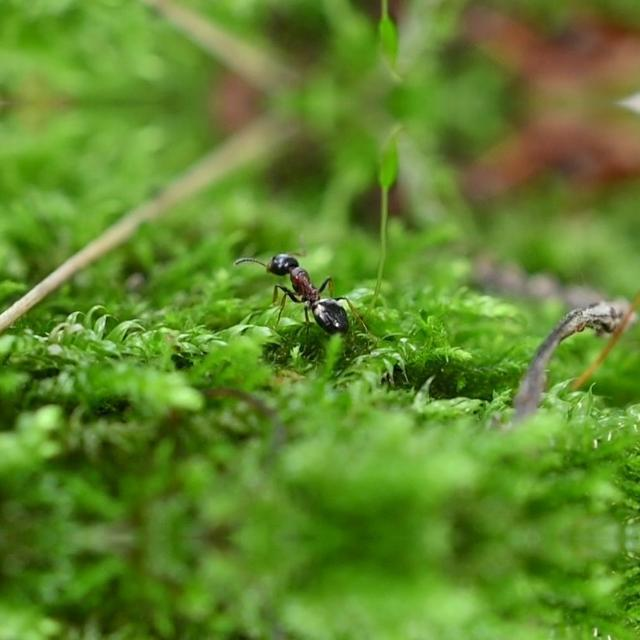Dolichoderus: (236, 235, 378, 342)
